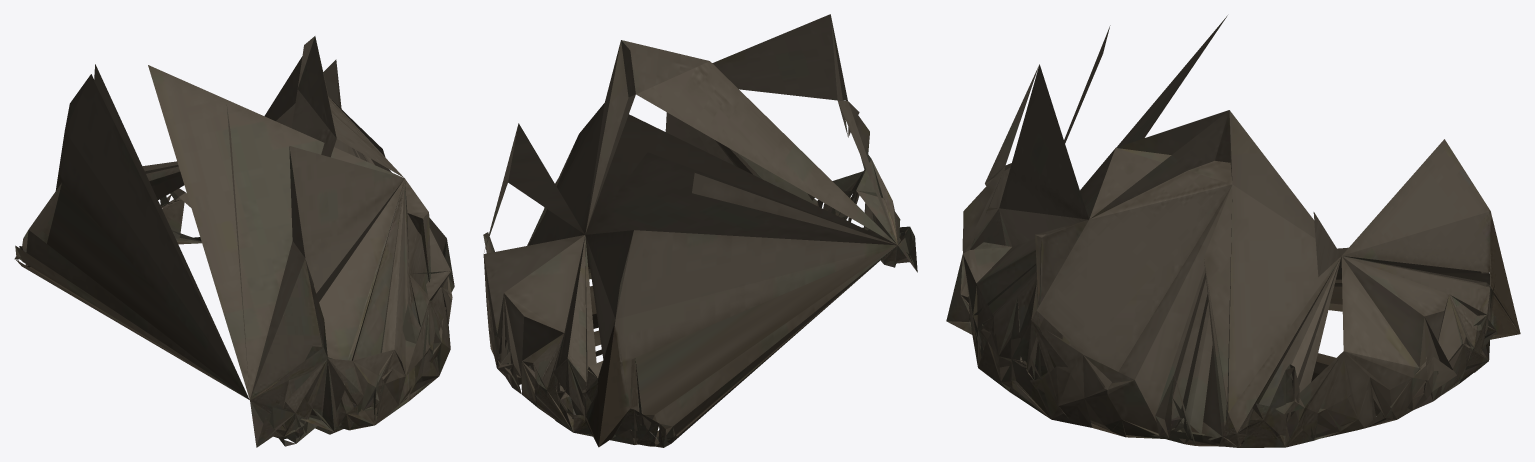
File: nat_flowers_a_LOD0.glb
3 renders of one model, left to right at view 1: azimuth 30°, elevation 25°; view 2: azimuth 150°, elevation 25°; view 3: azimuth 270°, elevation 25°, orthographic. The views are drawn at different scales.
Visible parts, largest first — view 1: tripo_mesh_04344e2a-133c-4c6a-a491-71124795bb18; view 2: tripo_mesh_04344e2a-133c-4c6a-a491-71124795bb18; view 3: tripo_mesh_04344e2a-133c-4c6a-a491-71124795bb18.
Part boxes in pixels (x1,y1,x2,y2): tripo_mesh_04344e2a-133c-4c6a-a491-71124795bb18: (14,36,454,447); tripo_mesh_04344e2a-133c-4c6a-a491-71124795bb18: (483,14,917,447); tripo_mesh_04344e2a-133c-4c6a-a491-71124795bb18: (946,15,1520,447).
Bounding box in the file's own units: 0.5078 × 0.5 × 0.8566.
1 material, 1 textured.
